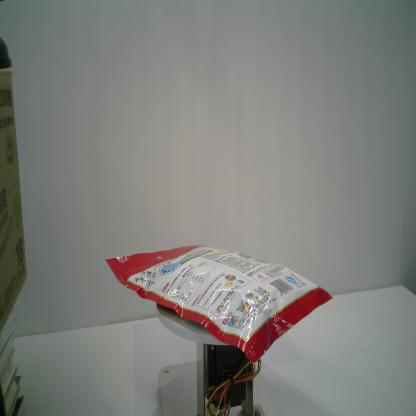Instant Drink: (104, 243, 334, 365)
